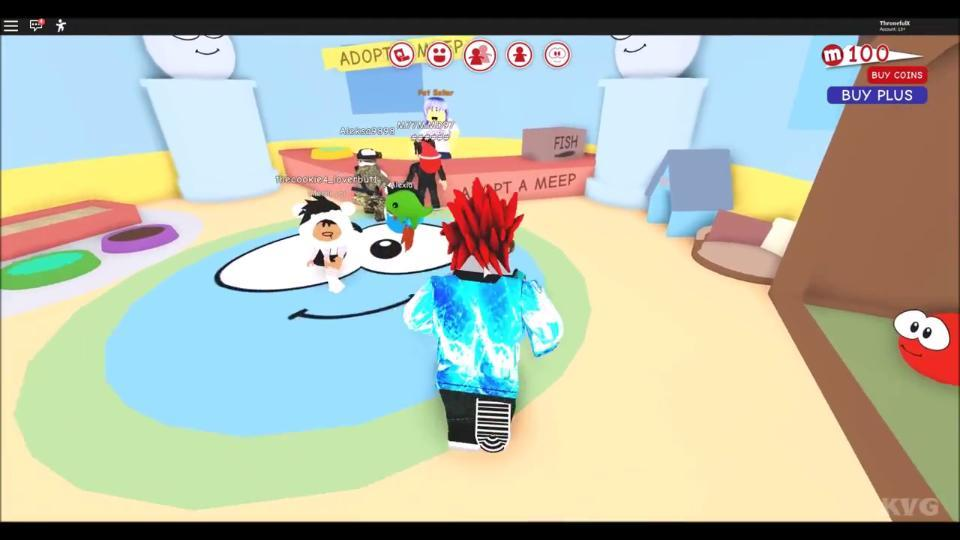Character: (403, 178, 564, 453), (293, 195, 356, 293), (353, 148, 394, 222), (406, 139, 448, 211), (418, 98, 461, 158)
